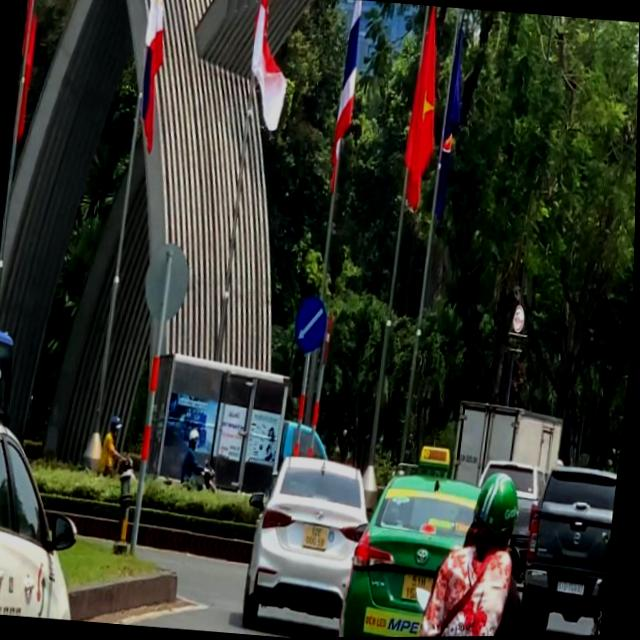Vong chuong ngai vat sang trai: (294, 295, 330, 355)
